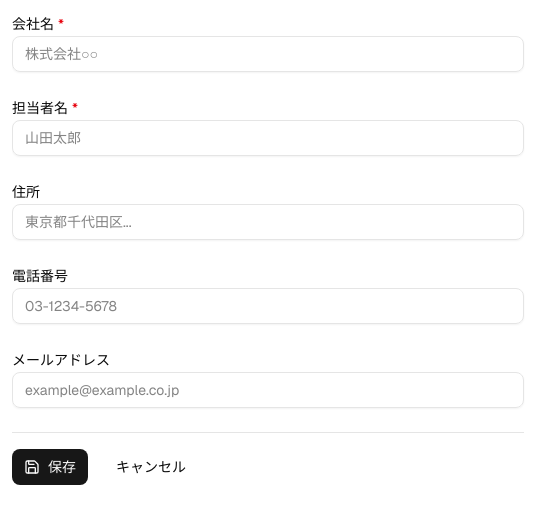
Test case: CustomerForm › 会社名未入力で保存するとバリデーションエラーが表示される
This screenshot has width=542, height=526.
担当者名のみ入力
Type "佐藤" into the field labelled "担当者名*" at [268, 138], box [12,120,524,156]
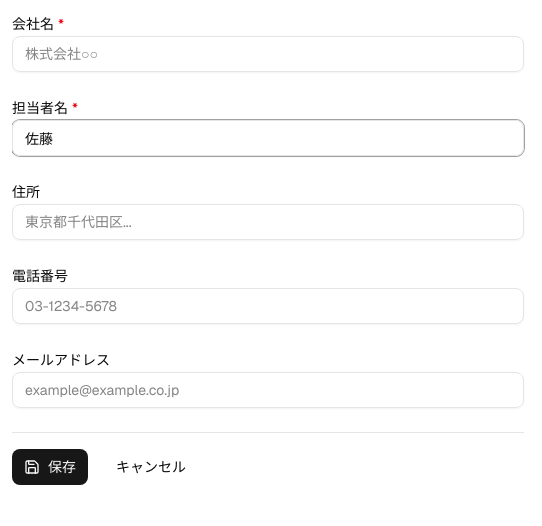
Click the button "保存" at [50, 467], box [12,449,88,485]
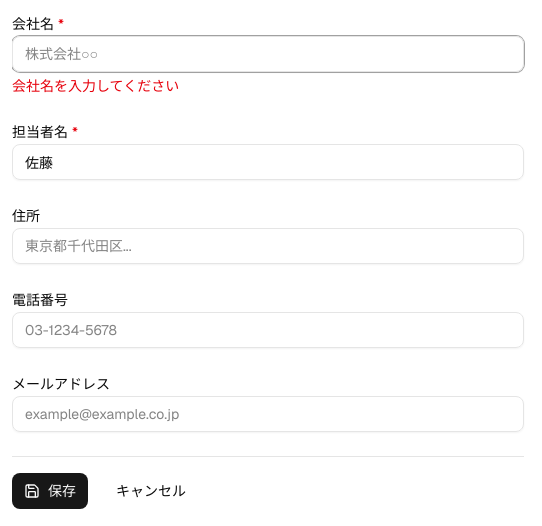
Expected: the text "会社名を入力してください" is shown, [12,77,179,95]
